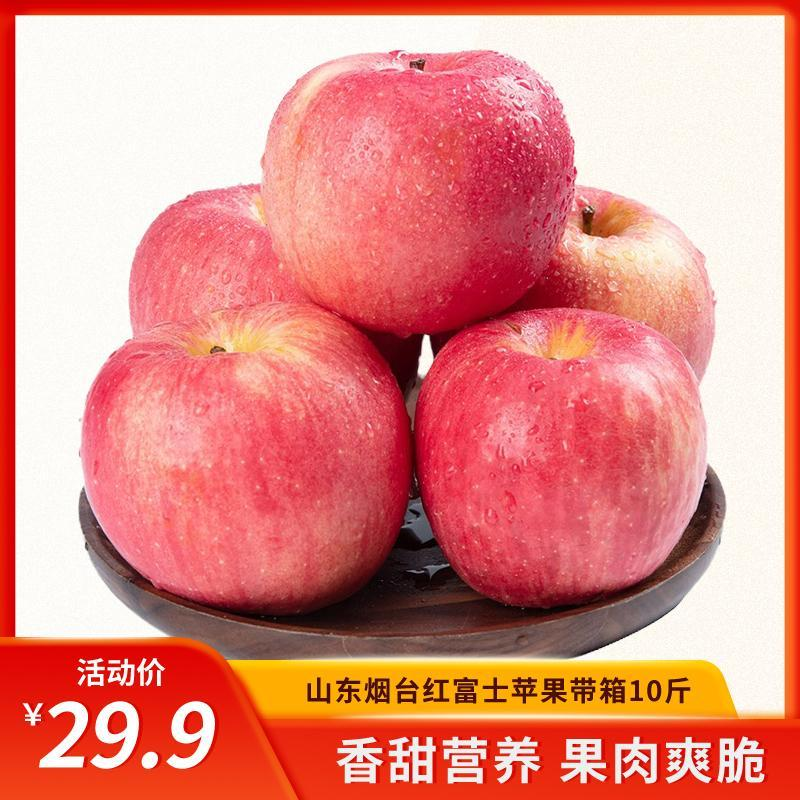apple: (83, 296, 411, 612), (260, 48, 576, 333), (419, 305, 714, 610), (128, 189, 420, 387), (430, 179, 715, 373)
